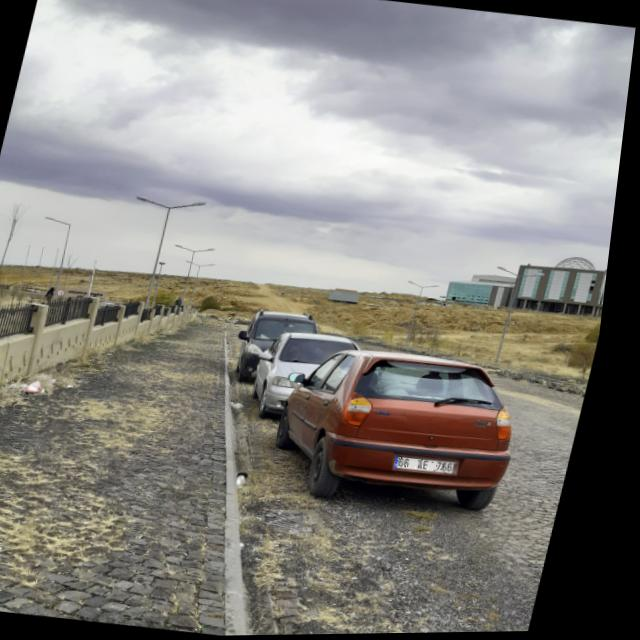license_plate: (405, 458, 469, 476)
